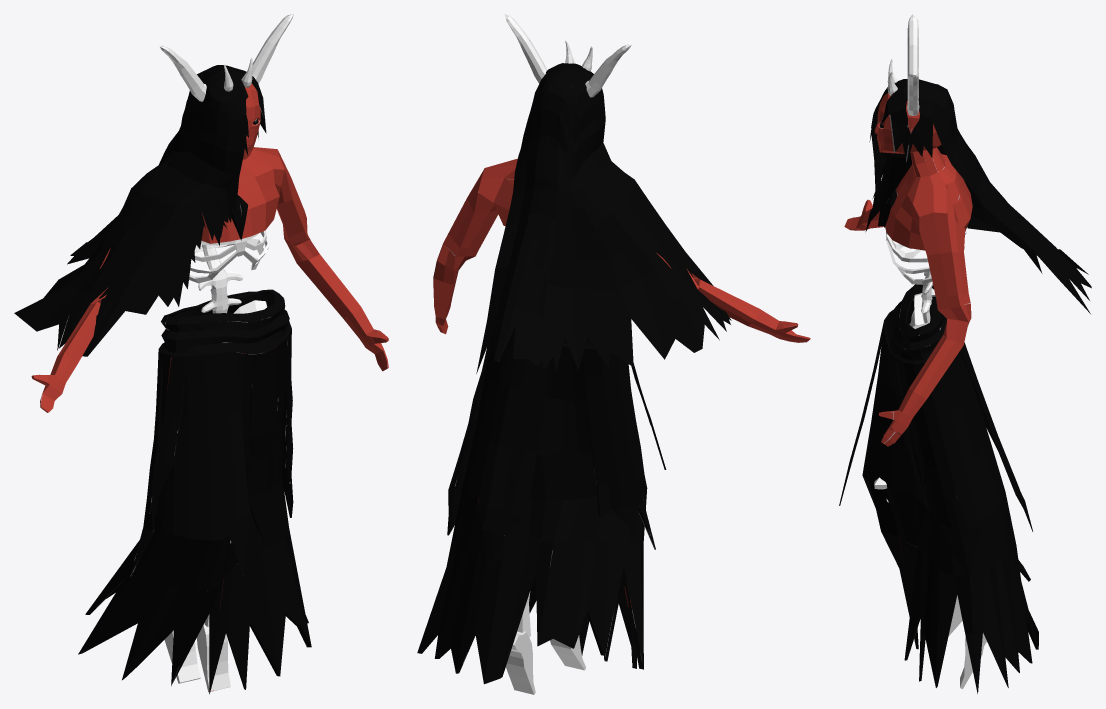
The model's file is cursedqueenattack_02.fbx.
3 views of the same model, side by side, from view 1: azimuth 30°, elevation 25°; view 2: azimuth 150°, elevation 25°; view 3: azimuth 270°, elevation 25° (orthographic). The views are drawn at different scales.
Parts seen in each view (by area): view 1: cursed_queen; view 2: cursed_queen; view 3: cursed_queen.
Boxes of the visible parts, x1,y1,x2,y2 form: cursed_queen: [14, 14, 388, 694]; cursed_queen: [417, 14, 810, 694]; cursed_queen: [839, 14, 1091, 694].
Bounding box in the file's own units: 157 × 280 × 101.
